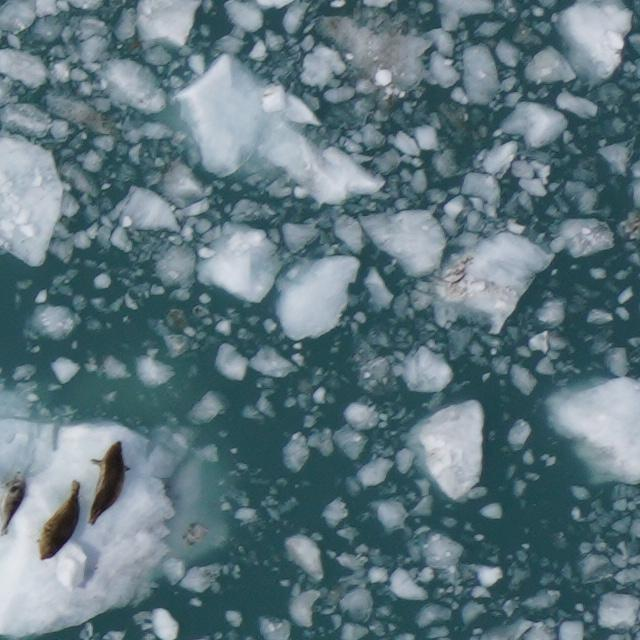seal: (25, 476, 99, 568), (88, 440, 131, 526), (0, 469, 32, 538)
